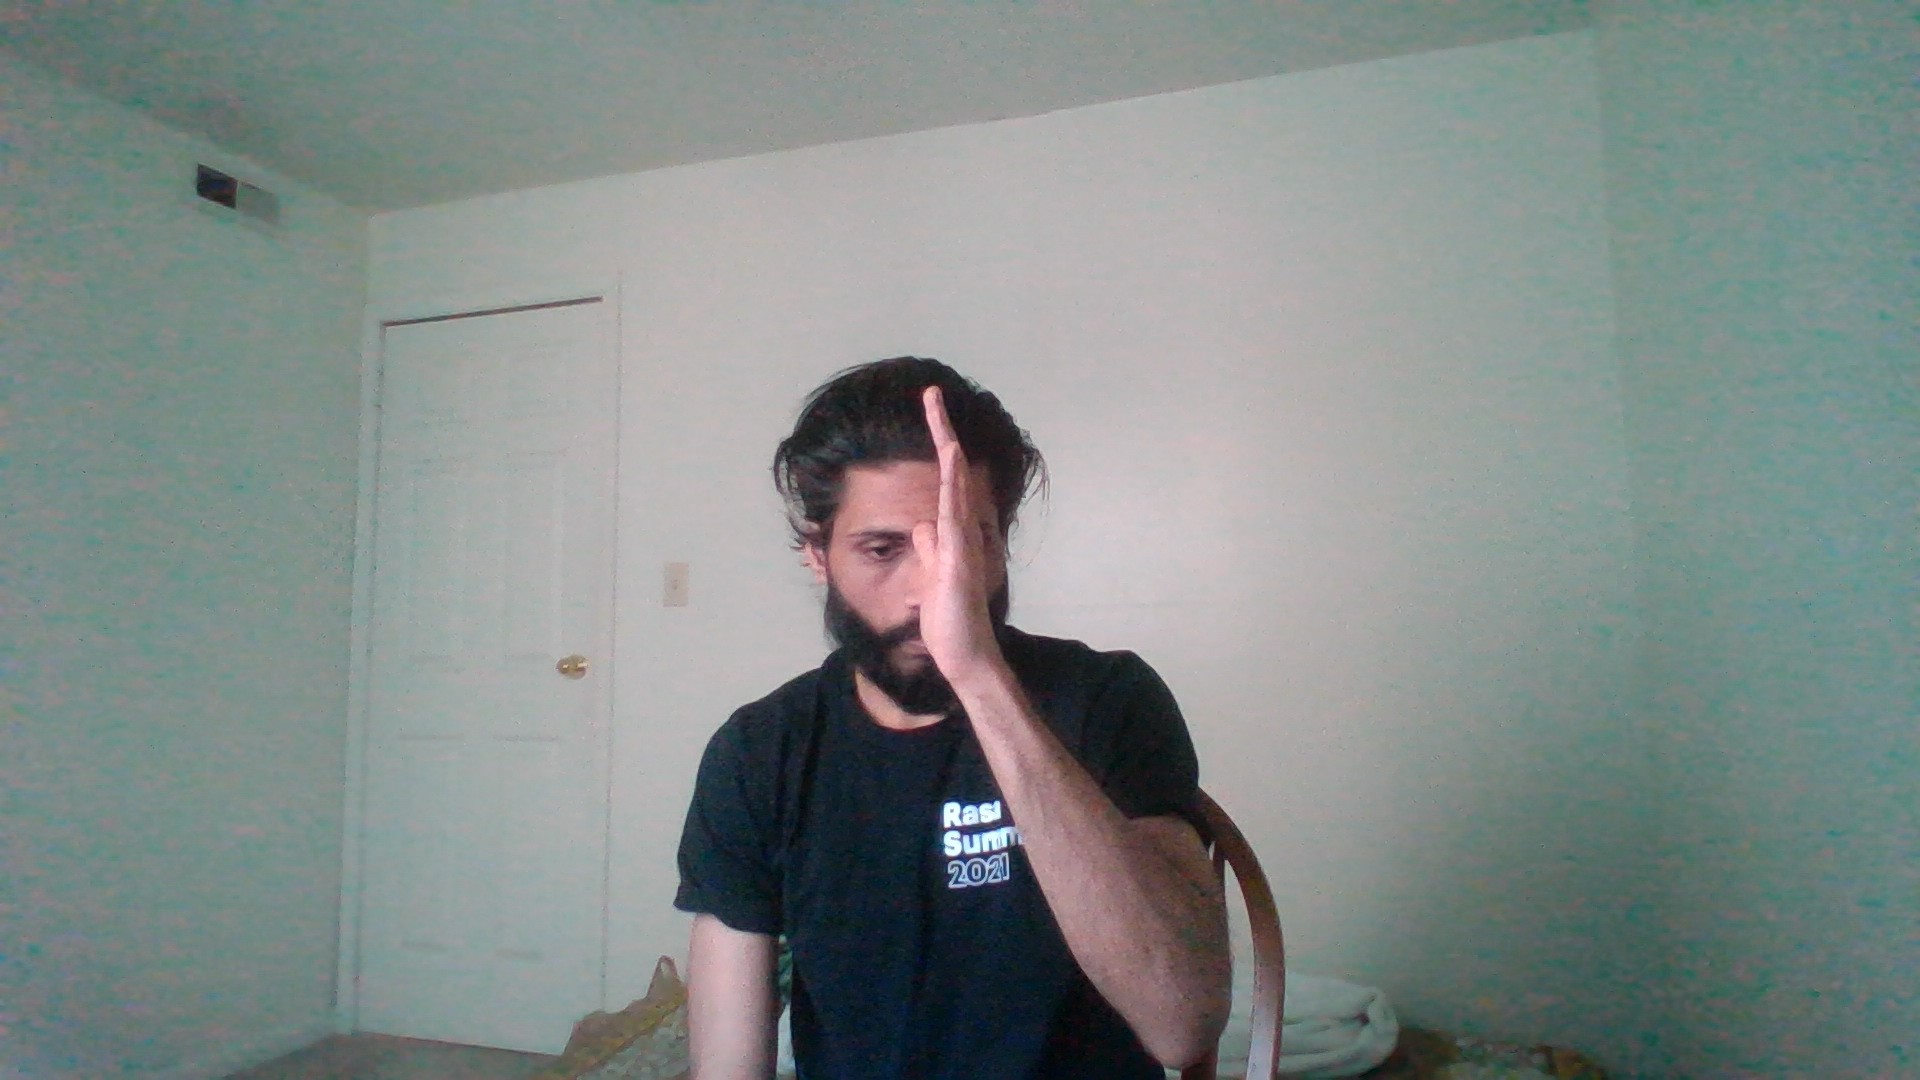Dad: (781, 352, 1139, 717)
